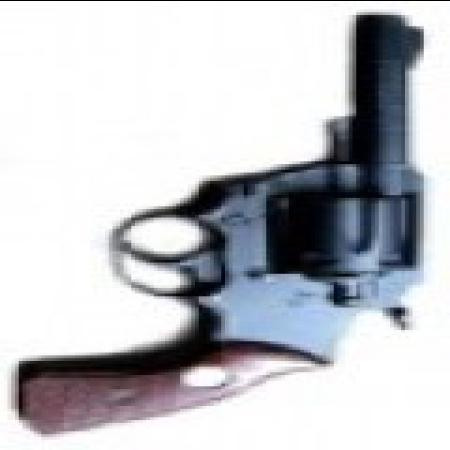Pistol: (19, 11, 431, 433)
